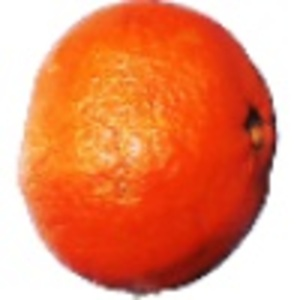tangerina: (15, 1, 282, 300)
